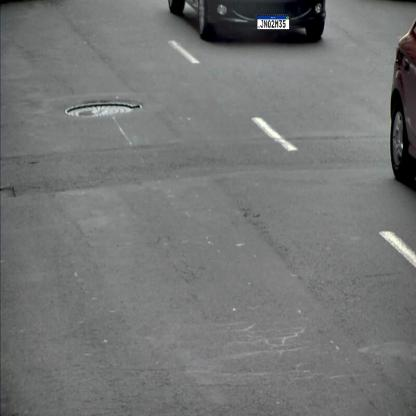PlacaM: (257, 15, 290, 30)
